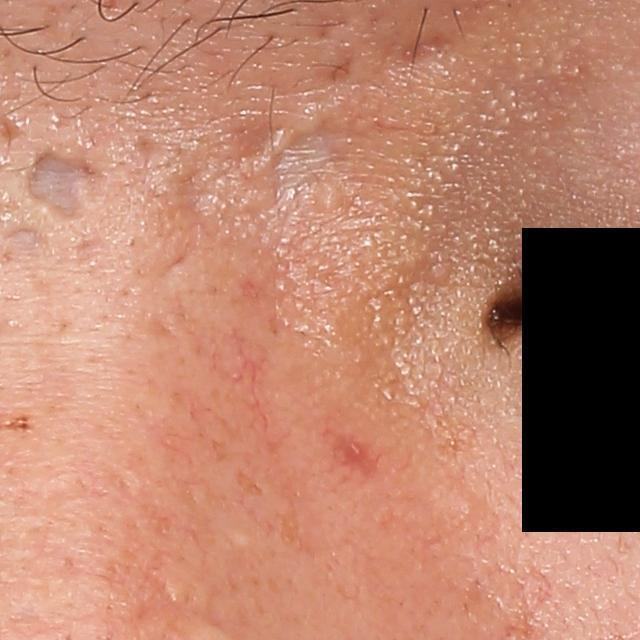atrophic_scar: (266, 114, 348, 212), (25, 140, 112, 226), (178, 164, 226, 226), (132, 571, 185, 621), (130, 134, 161, 169), (154, 314, 184, 344), (12, 225, 47, 246)
